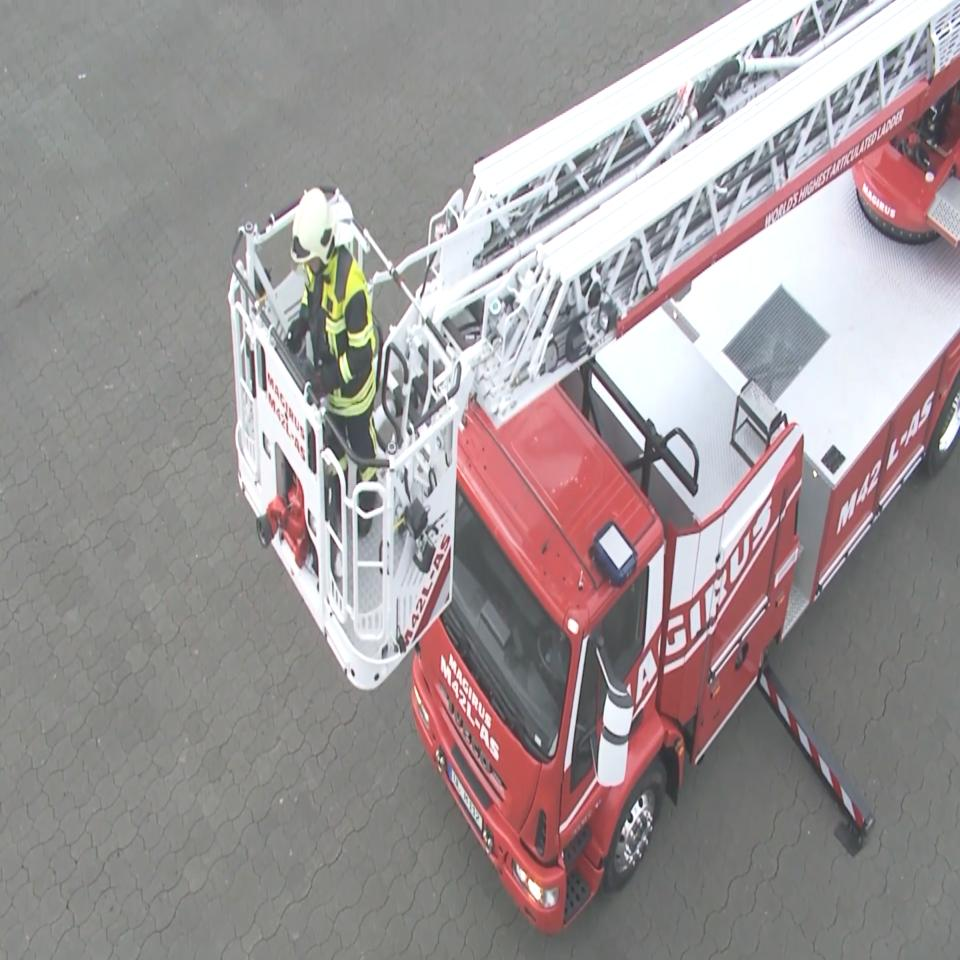bombeiro: (412, 0, 960, 931)
